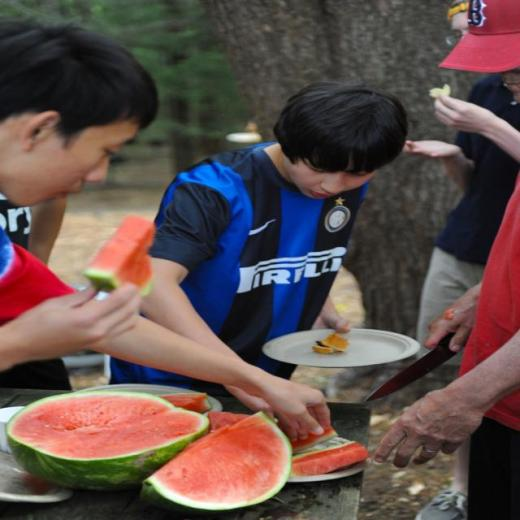Cherry: (3, 388, 210, 491), (145, 408, 286, 514), (84, 212, 161, 297), (293, 438, 368, 478), (290, 427, 339, 453), (158, 392, 212, 413)
